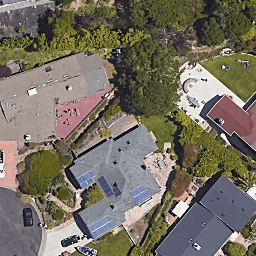car: (58, 233, 81, 246), (21, 206, 34, 227)
